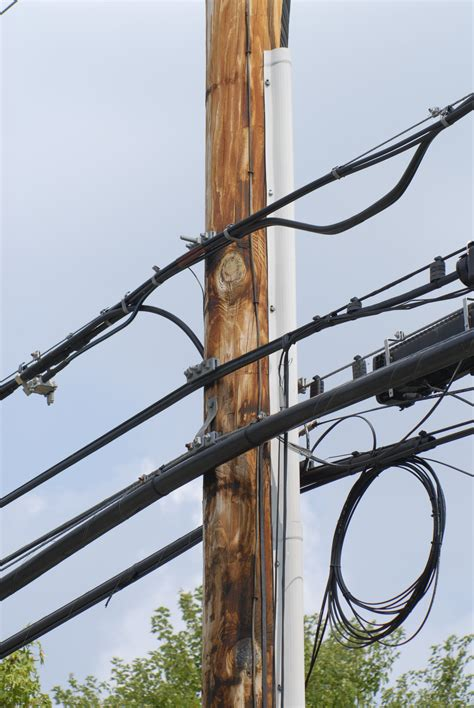pole: (175, 2, 341, 708)
